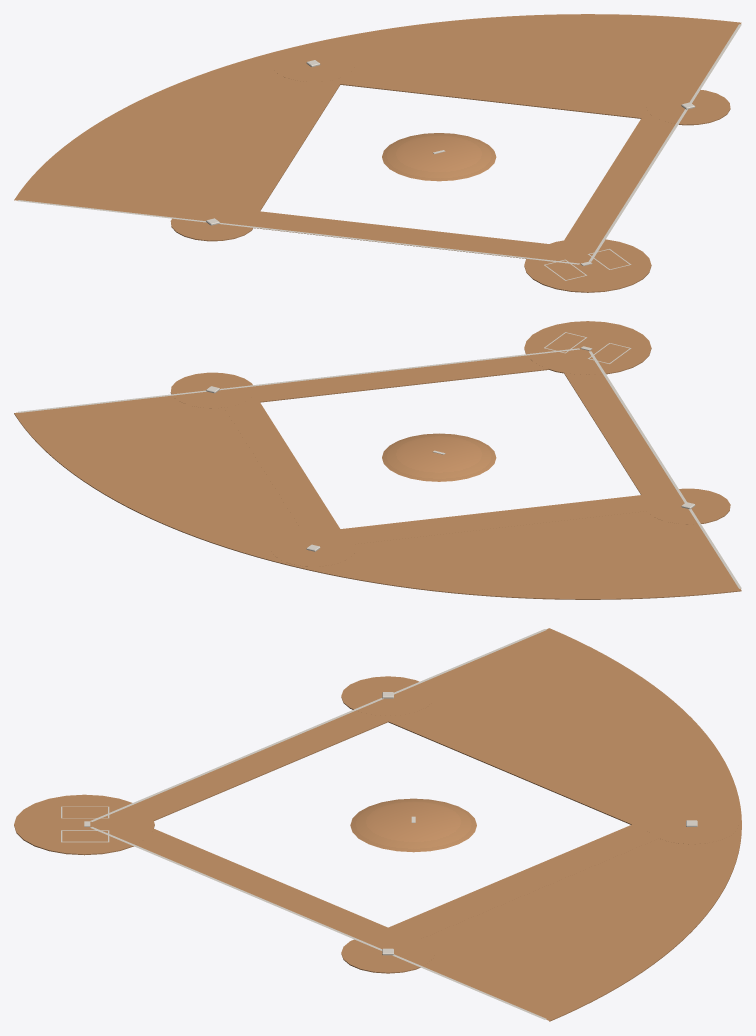
File: ballfield_diamond_v2.glb
The picture shows the model from 3 angles, top to bottom: view 1: azimuth 30°, elevation 25°; view 2: azimuth 150°, elevation 25°; view 3: azimuth 270°, elevation 25°; orthographic projection. The views are drawn at different scales.
Visible parts, largest first — view 1: ballfield_diamond_v2; view 2: ballfield_diamond_v2; view 3: ballfield_diamond_v2.
Boxes of the visible parts, x1,y1,x2,y2 form: ballfield_diamond_v2: (14, 14, 741, 292); ballfield_diamond_v2: (14, 321, 741, 599); ballfield_diamond_v2: (14, 628, 741, 1021).
Bounding box in the file's own units: 39.6 × 0.27 × 31.
Materials: 1 (1 with a texture image).
